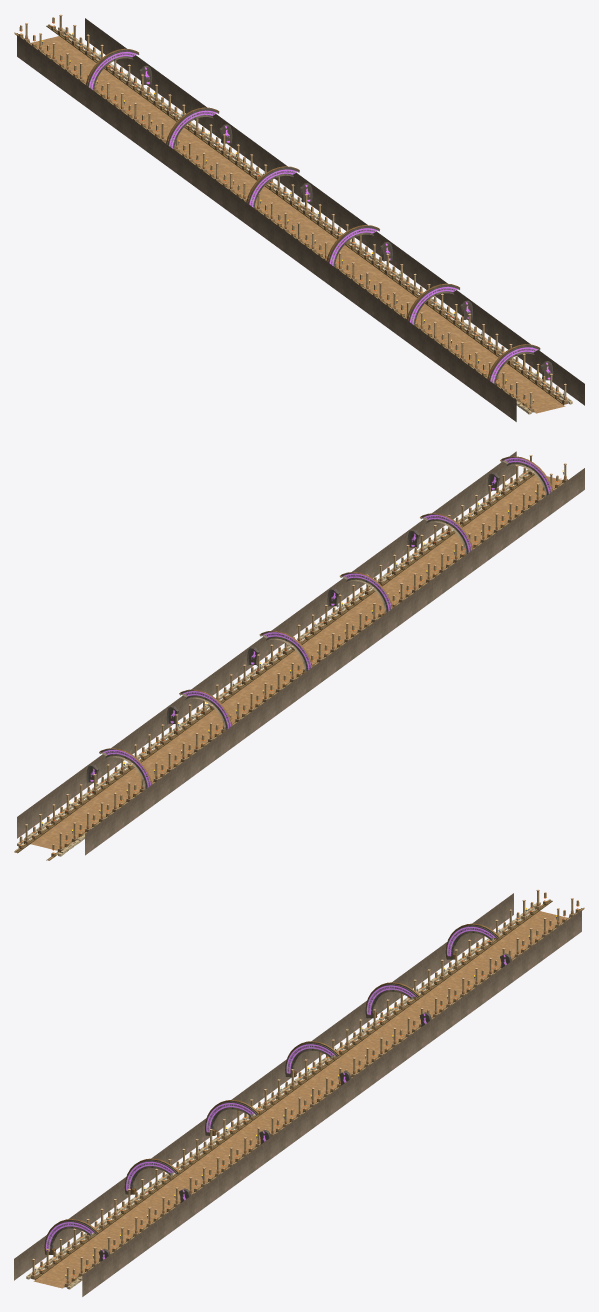
Rendered from DesertMap5.glb.
3 views of the same model, one above another, from view 1: azimuth 30°, elevation 25°; view 2: azimuth 150°, elevation 25°; view 3: azimuth 330°, elevation 25° (orthographic).
Visible parts, largest first — view 1: wall_low, Platform6x6_PlatformFloor6x6_0.002, Object_3.003, Object_3.002, Portal_Portal_Material_0.003, Portal_Portal_Material_0.004, Portal_Portal_Material_0.001, Portal_Portal_Material_0.002, Portal_Portal_Material_0.005, Portal_Portal_Material_0; view 2: wall_low, Platform6x6_PlatformFloor6x6_0.002, Object_3.003, Object_3.002, Portal_Portal_Material_0.002, Portal_Portal_Material_0.001, Portal_Portal_Material_0.003, Portal_Portal_Material_0.005, Portal_Portal_Material_0.004, Portal_Portal_Material_0; view 3: wall_low, Platform6x6_PlatformFloor6x6_0.002, Object_3.003, Object_3.002, Portal_Portal_Material_0.004, Portal_Portal_Material_0.005, Portal_Portal_Material_0.001, Portal_Portal_Material_0.003, Portal_Portal_Material_0.002, Portal_Portal_Material_0.
Boxes of the visible parts, x1,y1,x2,y2 form: wall_low: (17,18,584,421); Platform6x6_PlatformFloor6x6_0.002: (31,36,565,413); Object_3.003: (66,33,572,414); Object_3.002: (58,27,563,407); Portal_Portal_Material_0.003: (246,166,312,209); Portal_Portal_Material_0.004: (166,107,232,151); Portal_Portal_Material_0.001: (406,283,472,327); Portal_Portal_Material_0.002: (326,225,392,268); Portal_Portal_Material_0.005: (85,48,152,92); Portal_Portal_Material_0: (487,344,553,384); wall_low: (17,451,584,855); Platform6x6_PlatformFloor6x6_0.002: (30,475,562,850); Object_3.003: (27,469,529,849); Object_3.002: (17,475,522,856); Portal_Portal_Material_0.002: (327,572,392,615); Portal_Portal_Material_0.001: (407,513,473,556); Portal_Portal_Material_0.003: (247,630,312,674); Portal_Portal_Material_0.005: (86,748,152,791); Portal_Portal_Material_0.004: (166,689,232,732); Portal_Portal_Material_0: (487,456,552,496); wall_low: (14,893,581,1296); Platform6x6_PlatformFloor6x6_0.002: (33,911,567,1288); Object_3.003: (26,908,532,1289); Object_3.002: (35,902,540,1282); Portal_Portal_Material_0.004: (365,982,431,1026); Portal_Portal_Material_0.005: (445,923,511,968); Portal_Portal_Material_0.001: (124,1158,190,1203); Portal_Portal_Material_0.003: (285,1041,351,1085); Portal_Portal_Material_0.002: (205,1100,270,1144); Portal_Portal_Material_0: (44,1219,110,1261).
Size of the model in its own units: 11.2 by 7.55 by 148.
8 materials, 6 textured.
